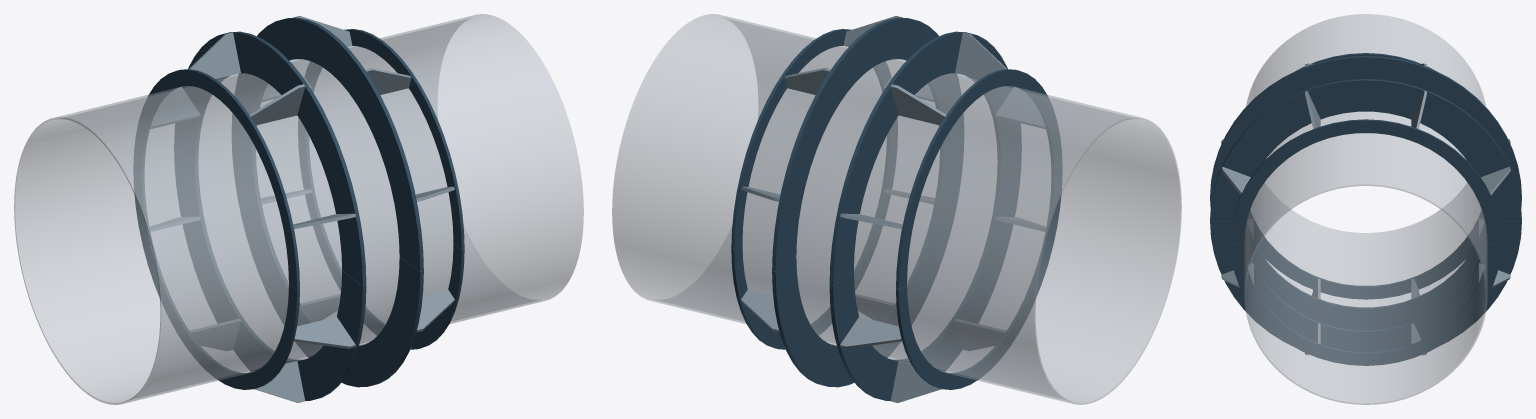
The model's file is TS-667.00.00-09-opora-dn1420-D1820.glb.
3 views of the same model, side by side, from view 1: azimuth 30°, elevation 25°; view 2: azimuth 150°, elevation 25°; view 3: azimuth 270°, elevation 25° (orthographic). The views are drawn at different scales.
Visible parts, largest first — view 1: truba, polukoltso_1, polukoltso_13, polukoltso_19, polukoltso_7, polukoltso_usil_12, polukoltso_usil_24, polukoltso_usil_6, polukoltso_usil_18, rebro_9, rebro_20, rebro_10 (+6 smaller); view 2: truba, polukoltso_1, polukoltso_13, polukoltso_19, polukoltso_7, polukoltso_usil_12, polukoltso_usil_24, polukoltso_usil_6, polukoltso_usil_18, rebro_10, rebro_23, rebro_9 (+6 smaller); view 3: truba, polukoltso_1, polukoltso_13, polukoltso_7, polukoltso_19, polukoltso_usil_6, polukoltso_usil_18, polukoltso_usil_24, rebro_2, rebro_5, polukoltso_usil_12, rebro_3 (+1 smaller).
Boxes of the visible parts, x1,y1,x2,y2 form: truba: (14,14,583,404); polukoltso_1: (232,17,423,271); polukoltso_13: (232,134,423,387); polukoltso_19: (174,148,366,400); polukoltso_7: (174,31,366,285); polukoltso_usil_12: (133,69,299,289); polukoltso_usil_24: (133,170,299,389); polukoltso_usil_6: (298,29,464,249); polukoltso_usil_18: (298,130,464,349); rebro_9: (189,32,240,78); rebro_20: (294,316,355,348); rebro_10: (249,84,305,125); truba: (612,14,1181,404); polukoltso_1: (772,17,963,271); polukoltso_13: (772,134,963,387); polukoltso_19: (829,148,1021,400); polukoltso_7: (829,31,1021,285); polukoltso_usil_12: (896,69,1062,289); polukoltso_usil_24: (896,170,1062,389); polukoltso_usil_6: (731,29,897,249); polukoltso_usil_18: (731,130,897,349); rebro_10: (955,32,1006,78); rebro_23: (840,316,901,348); rebro_9: (890,84,946,125); truba: (1244,14,1487,404); polukoltso_1: (1210,79,1521,221); polukoltso_13: (1210,221,1521,352); polukoltso_7: (1210,55,1521,198); polukoltso_19: (1210,198,1521,330); polukoltso_usil_6: (1230,119,1501,242); polukoltso_usil_18: (1230,243,1501,365); polukoltso_usil_24: (1247,210,1484,299); rebro_2: (1481,166,1510,194); rebro_5: (1221,166,1250,194); polukoltso_usil_12: (1298,53,1433,69); rebro_3: (1411,91,1426,128).
Bounding box in the file's own units: 2352 × 1820 × 1820.
